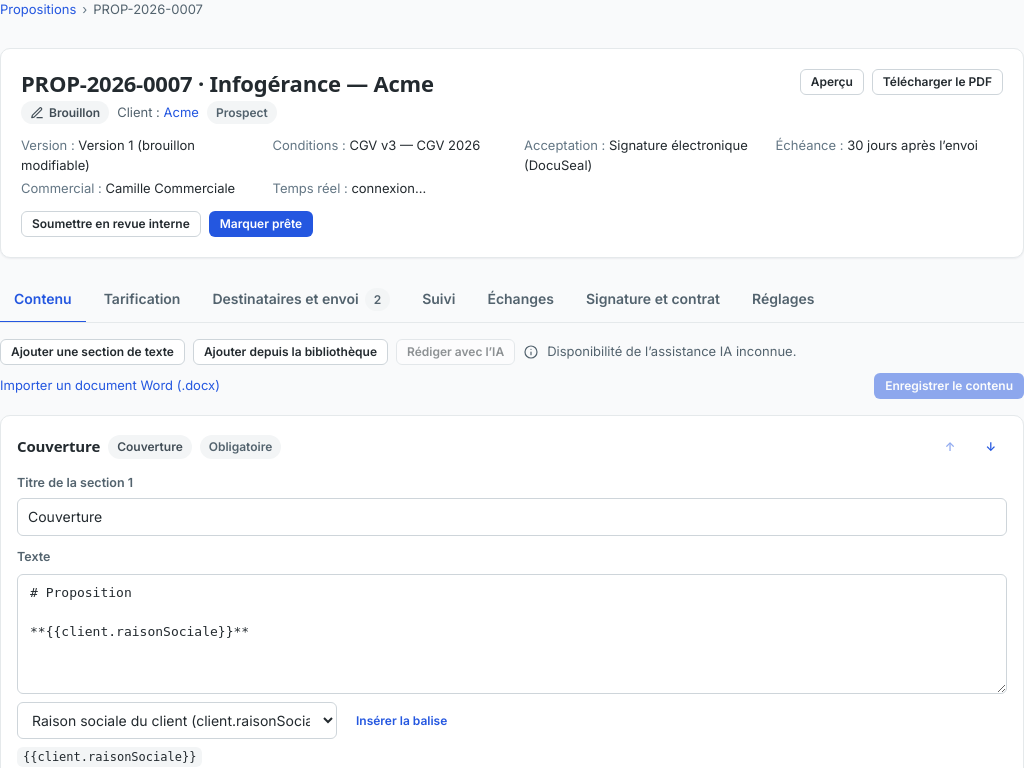
it: seules les transitions permises par l’API sont proposées ; « Marquer prête » appelle mark-ready
Expected: the button "Soumettre en revue interne" is shown, [21,211,201,237]
Expected: the button "Envoyer au client" is not shown
Click the button "Marquer prête" at (261, 224), box [209,211,313,237]
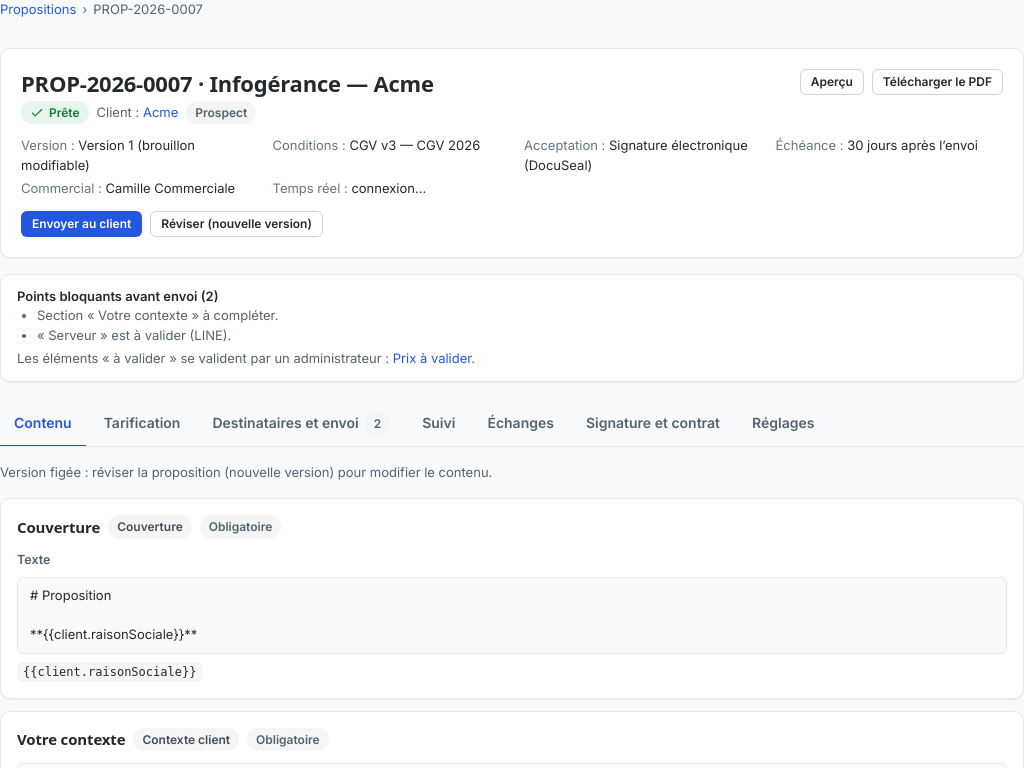
Expected: the element named "Proposition PROP-2026-0007" shows "Prête", [49,105,80,120]
Expected: the button "Envoyer au client" is shown, [21,211,142,237]
